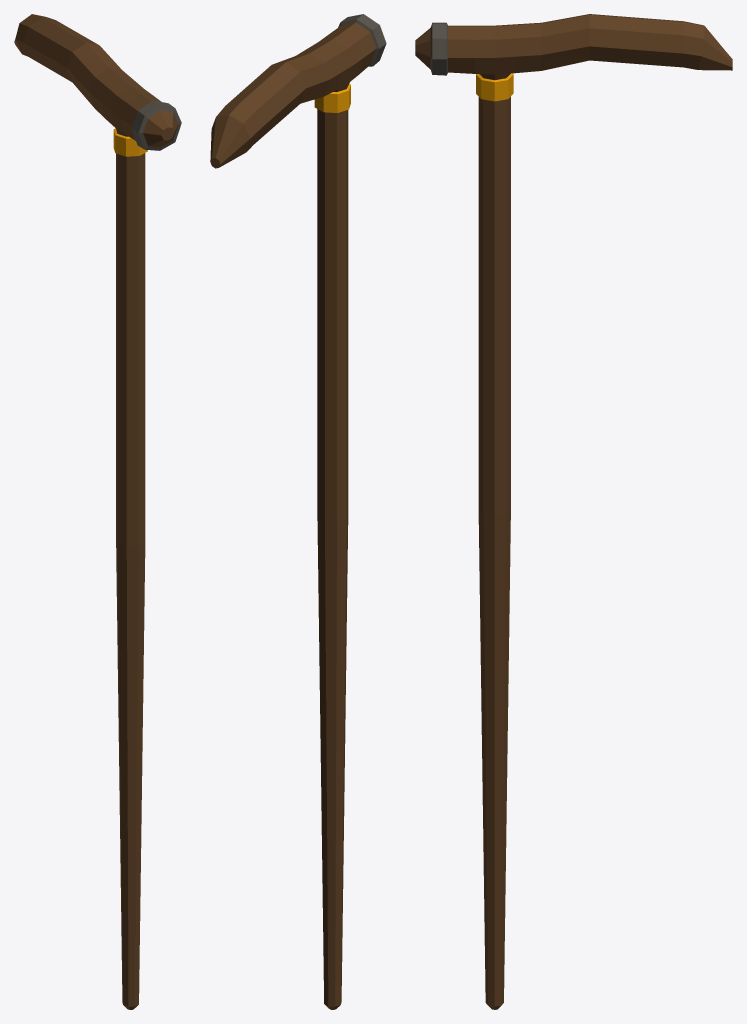
The model's file is Cane_broken.fbx.
3 views of the same model, side by side, from view 1: azimuth 30°, elevation 25°; view 2: azimuth 150°, elevation 25°; view 3: azimuth 270°, elevation 25° (orthographic). The views are drawn at different scales.
Visible parts, largest first — view 1: Cane, Cane_cell, Head, Cane_cell.003, Cane_cell.002, Head_cell.004, Head_cell.001; view 2: Cane, Head, Cane_cell, Cane_cell.004, Cane_cell.003, Head_cell.004, Head_cell.003, Head_cell.001; view 3: Cane, Head, Cane_cell, Cane_cell.004, Head_cell.003, Head_cell.001, Cane_cell.003, Cane_cell.002, Head_cell.004.
Boxes of the visible parts, left/top/right/bottom form: Cane: left=113, top=128, right=147, bottom=1007; Cane_cell: left=116, top=460, right=145, bottom=891; Head: left=15, top=14, right=181, bottom=150; Cane_cell.003: left=113, top=139, right=145, bottom=466; Cane_cell.002: left=122, top=889, right=140, bottom=1009; Head_cell.004: left=129, top=99, right=177, bottom=137; Head_cell.001: left=60, top=54, right=147, bottom=124; Cane: left=317, top=82, right=350, bottom=1009; Head: left=210, top=25, right=386, bottom=168; Cane_cell: left=317, top=435, right=348, bottom=882; Cane_cell.004: left=314, top=94, right=337, bottom=205; Cane_cell.003: left=337, top=101, right=348, bottom=435; Head_cell.004: left=339, top=14, right=386, bottom=52; Head_cell.003: left=210, top=73, right=298, bottom=167; Head_cell.001: left=296, top=25, right=369, bottom=104; Cane: left=476, top=73, right=512, bottom=1009; Head: left=415, top=14, right=732, bottom=75; Cane_cell: left=478, top=426, right=510, bottom=883; Cane_cell.004: left=481, top=73, right=513, bottom=432; Head_cell.003: left=605, top=32, right=732, bottom=70; Head_cell.001: left=445, top=25, right=607, bottom=59; Cane_cell.003: left=478, top=154, right=483, bottom=429; Cane_cell.002: left=484, top=880, right=500, bottom=1009; Head_cell.004: left=415, top=22, right=460, bottom=48.
Size of the model in its own units: 0.8599 by 17.63 by 5.11.
